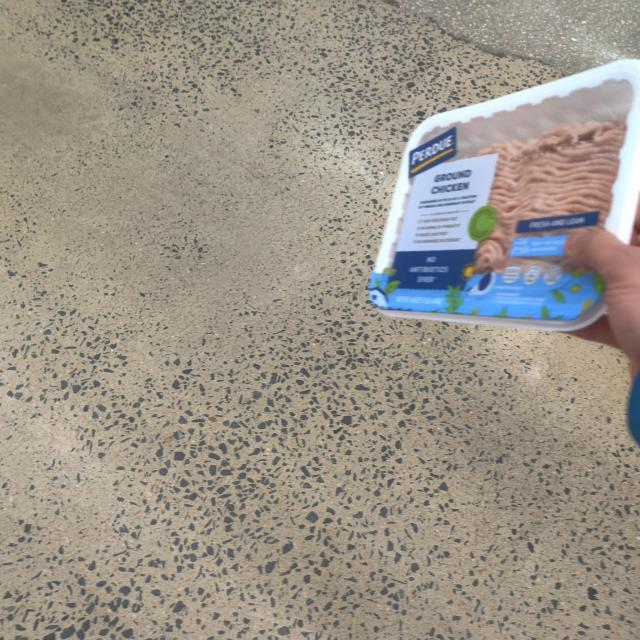Meat: (370, 102, 640, 336)
